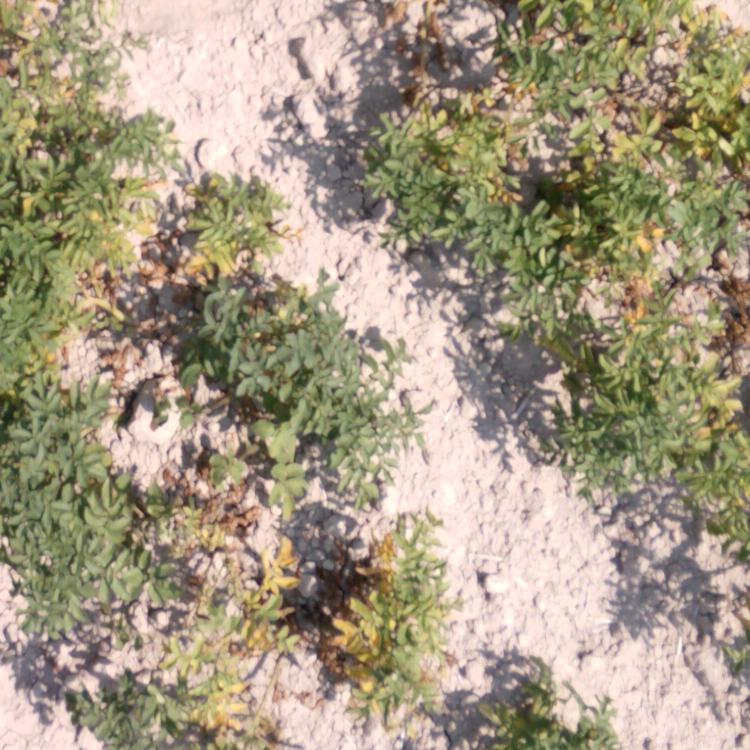healthy: (204, 286, 385, 472), (1, 371, 116, 631), (489, 669, 602, 750)
stressed: (539, 357, 736, 554), (121, 462, 311, 646), (8, 1, 153, 236), (512, 6, 750, 145), (315, 522, 455, 713), (518, 144, 748, 260), (365, 69, 507, 249), (478, 271, 750, 350), (55, 652, 268, 750), (1, 246, 139, 372), (160, 170, 264, 273), (385, 3, 469, 66), (143, 277, 190, 358), (715, 587, 749, 698)
